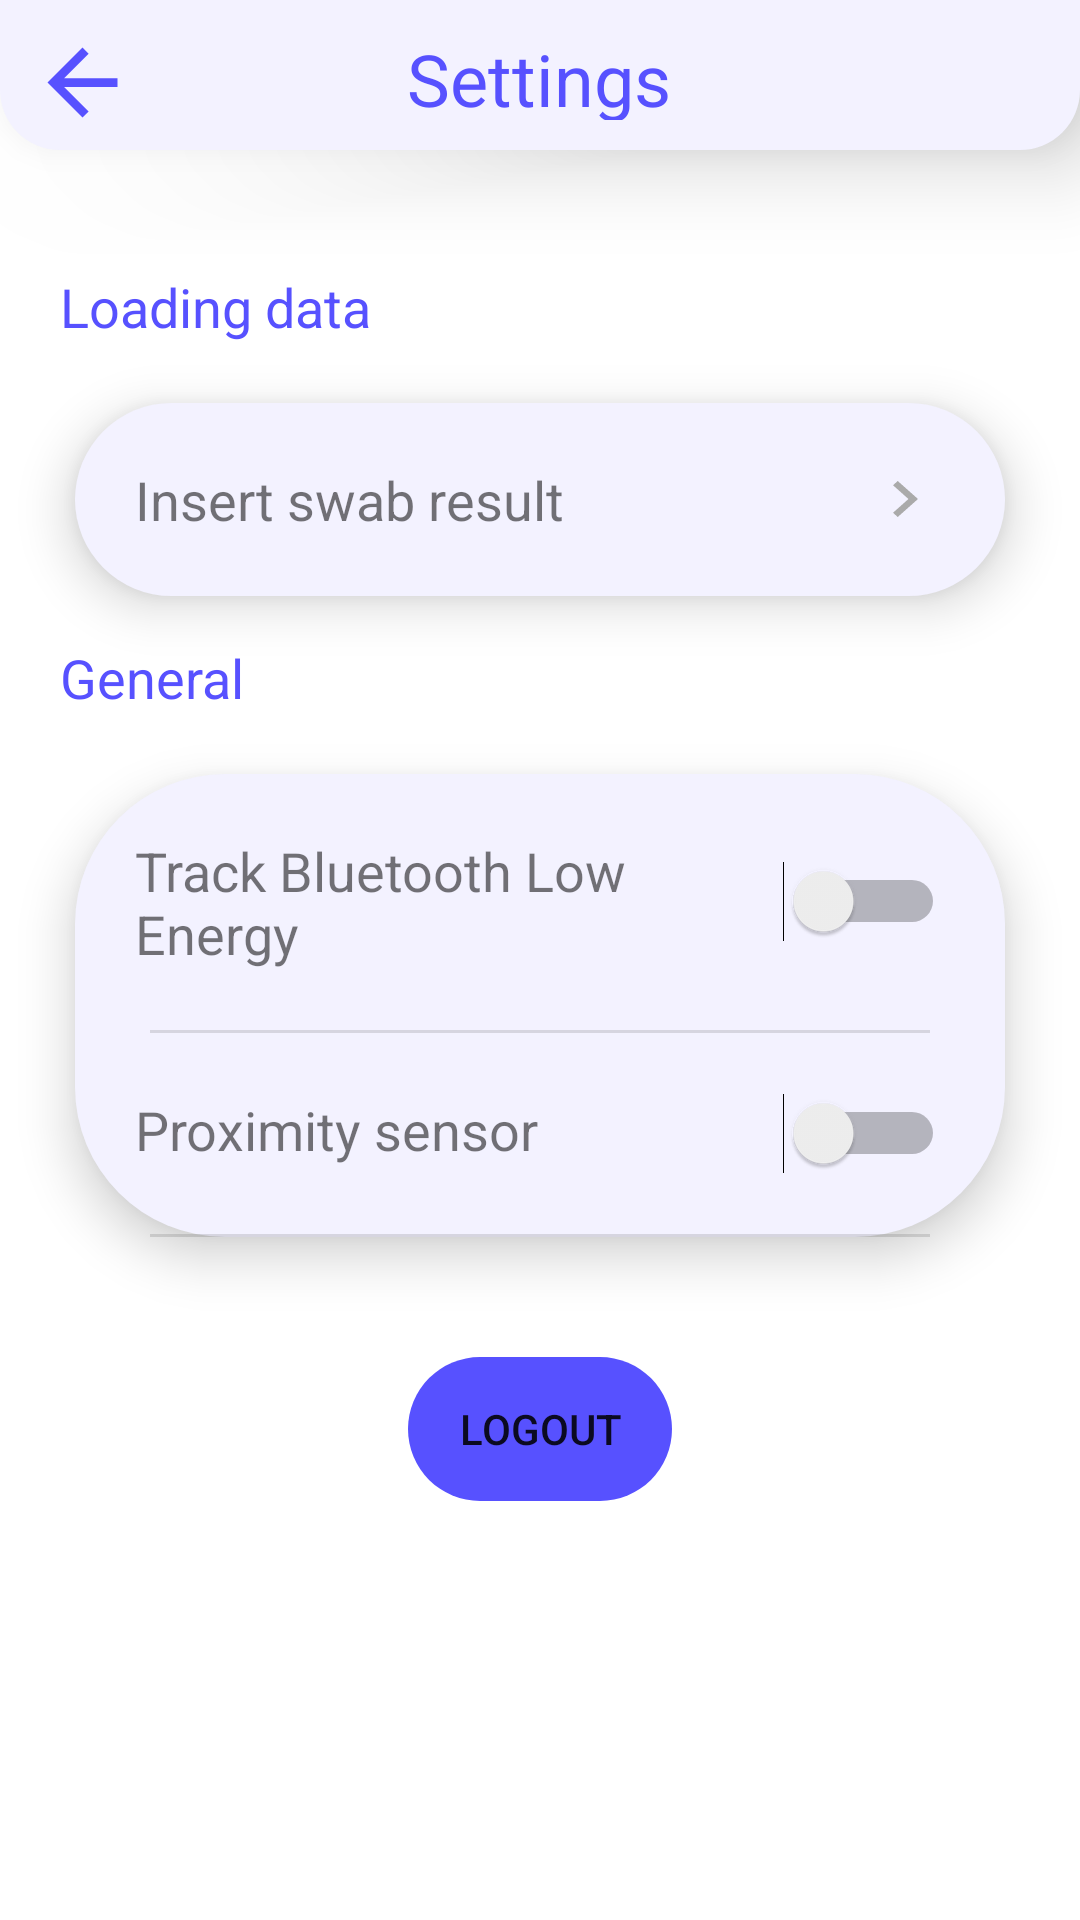

Where icons sit on this 1080px x 1920px app screen, as (x1, y1, x2, y2):
keyboard arrow right: (893, 481, 918, 517)
